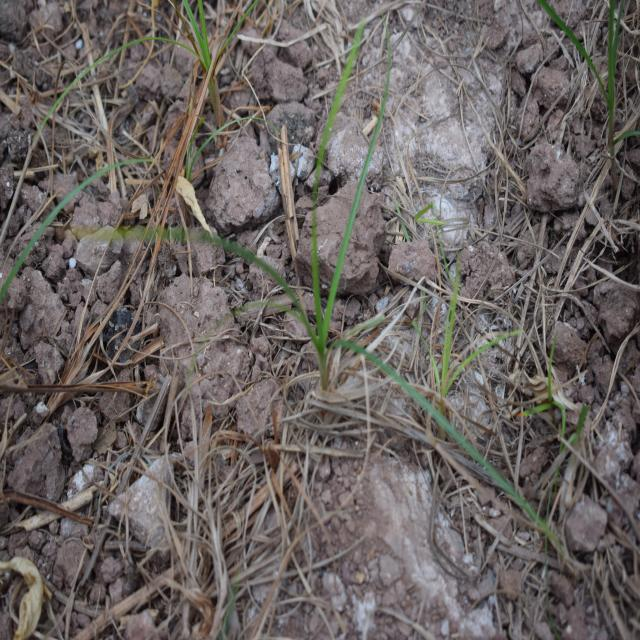sedge: (141, 135, 454, 482)
